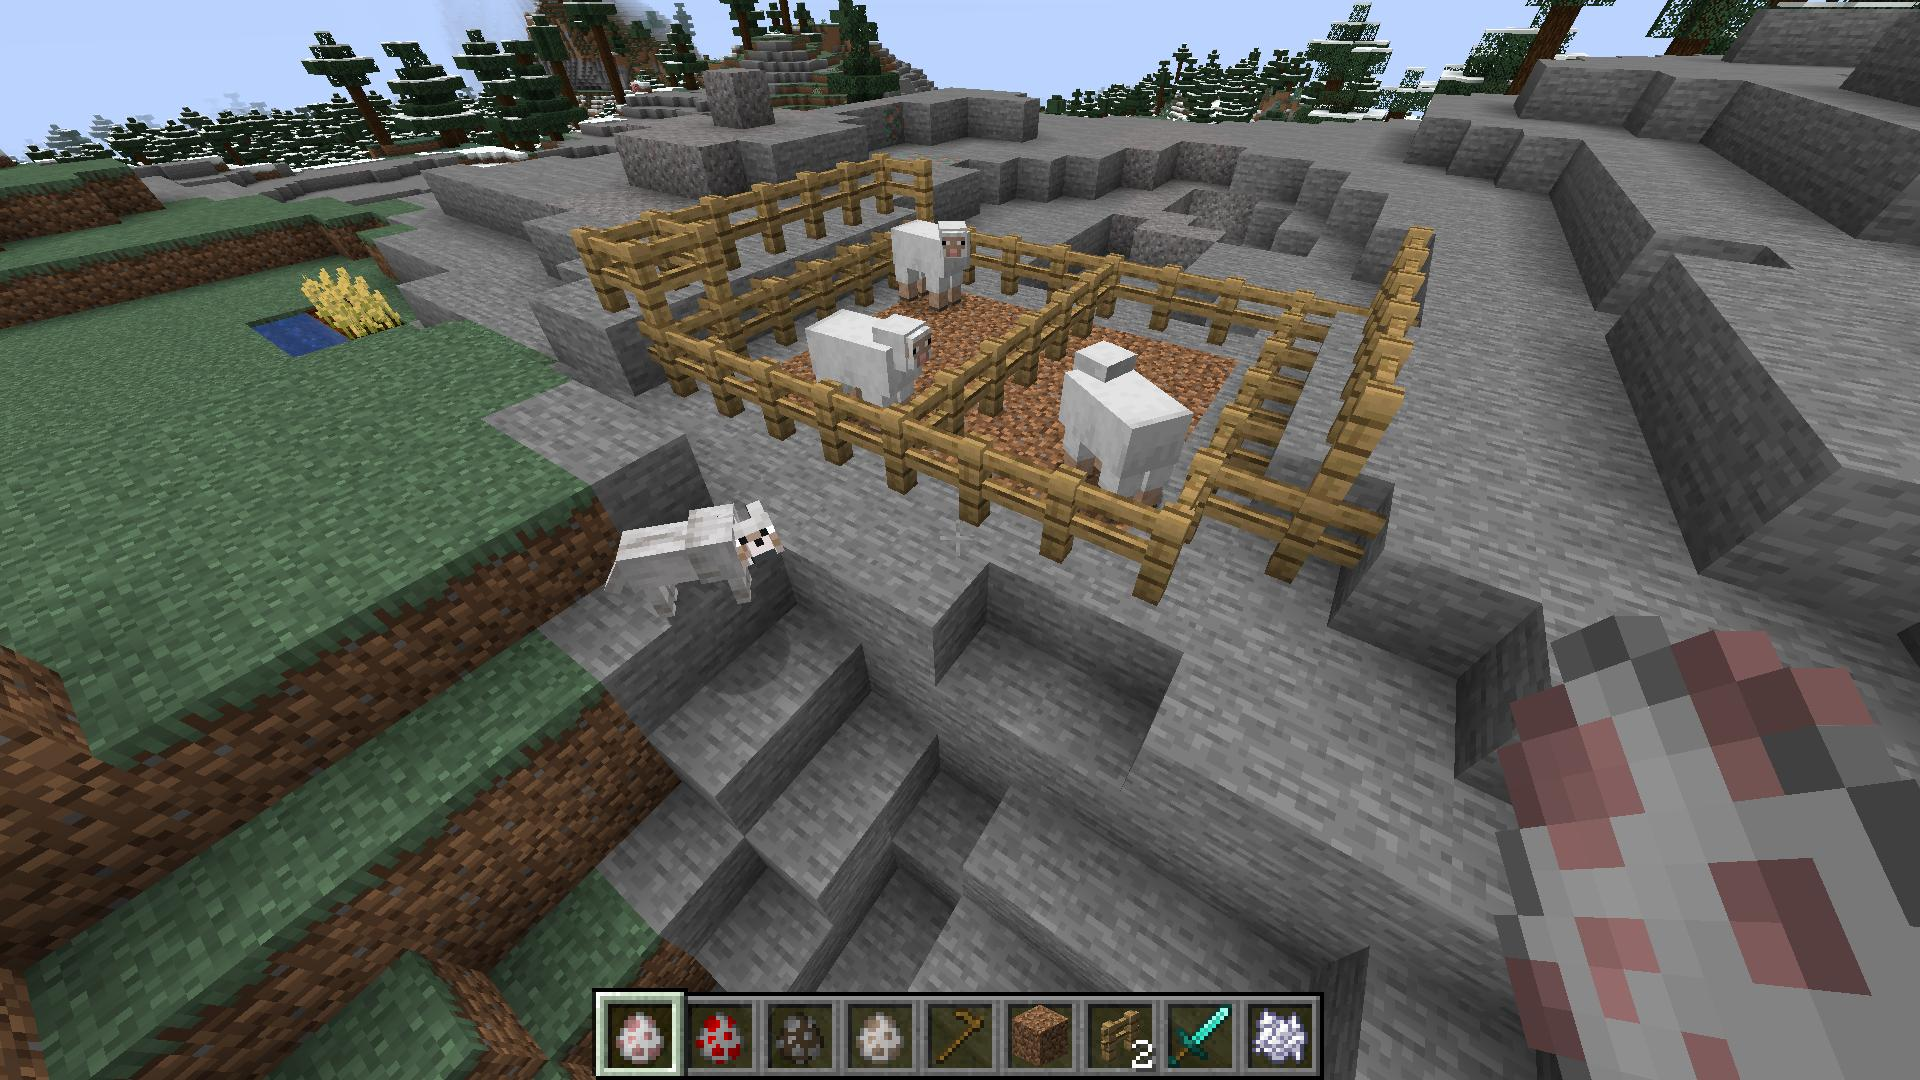sheep: (1060, 338, 1195, 502), (803, 307, 932, 410), (886, 214, 973, 310)
wolf: (599, 495, 785, 617)
